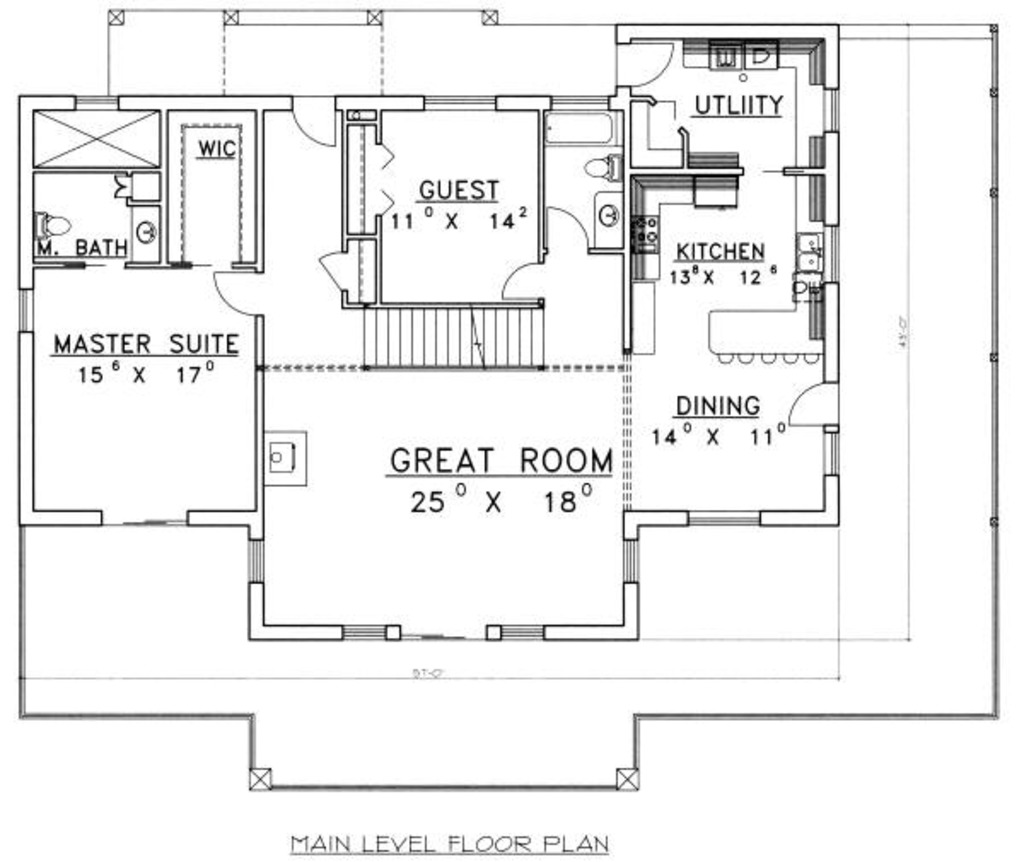door: (603, 30, 687, 101), (775, 366, 847, 433), (211, 268, 272, 320), (539, 201, 591, 257), (490, 250, 546, 301), (291, 90, 336, 153), (320, 249, 356, 297), (107, 169, 135, 204)
kitchen_bar: (703, 276, 840, 365)
large_sink: (567, 141, 639, 193), (19, 208, 82, 245)
small_sink: (123, 202, 170, 273), (591, 188, 628, 258)
stairs: (366, 294, 547, 369)
tub: (536, 109, 614, 144)
twin_sink: (792, 209, 846, 284)
window: (410, 80, 510, 113), (683, 502, 770, 532), (332, 612, 415, 637), (15, 284, 43, 349), (622, 534, 654, 585), (244, 532, 270, 584)
